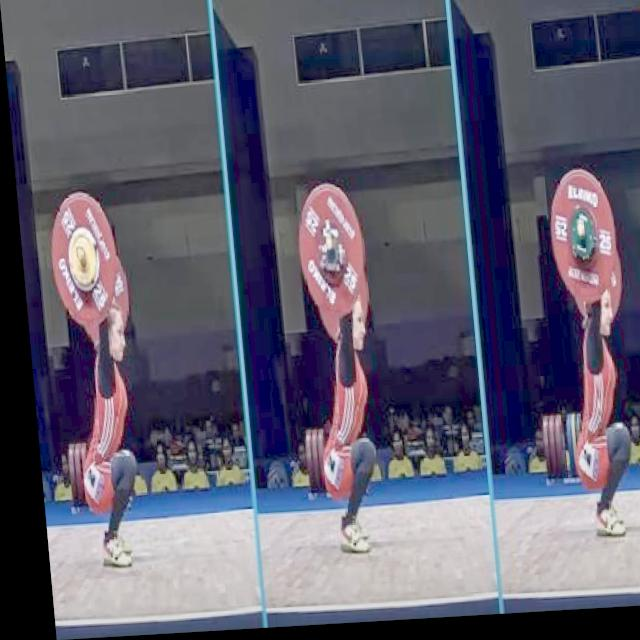barbell: (533, 168, 621, 323), (40, 187, 123, 334), (286, 182, 368, 326)
